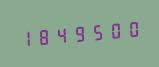eight: (35, 23, 52, 49)
five: (89, 19, 106, 44)
four: (53, 22, 70, 47)
nine: (71, 20, 88, 46)
one: (17, 25, 34, 50)
zero: (107, 17, 124, 43), (125, 16, 142, 41)
